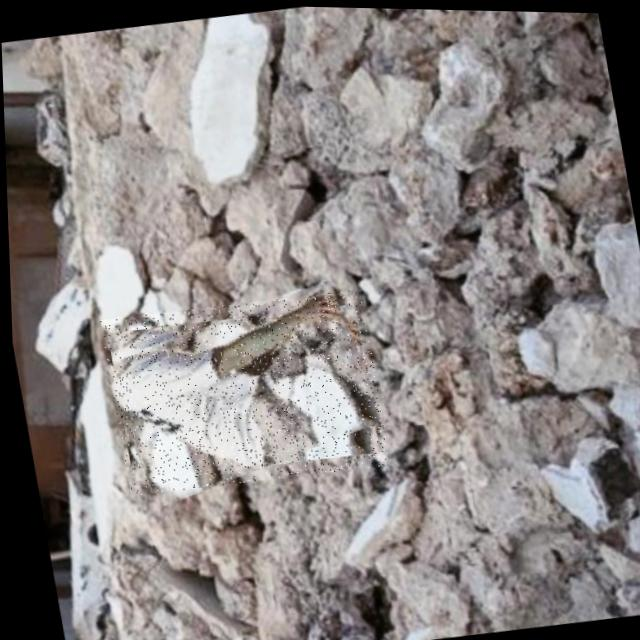Person in Rubble: (97, 282, 389, 499)
